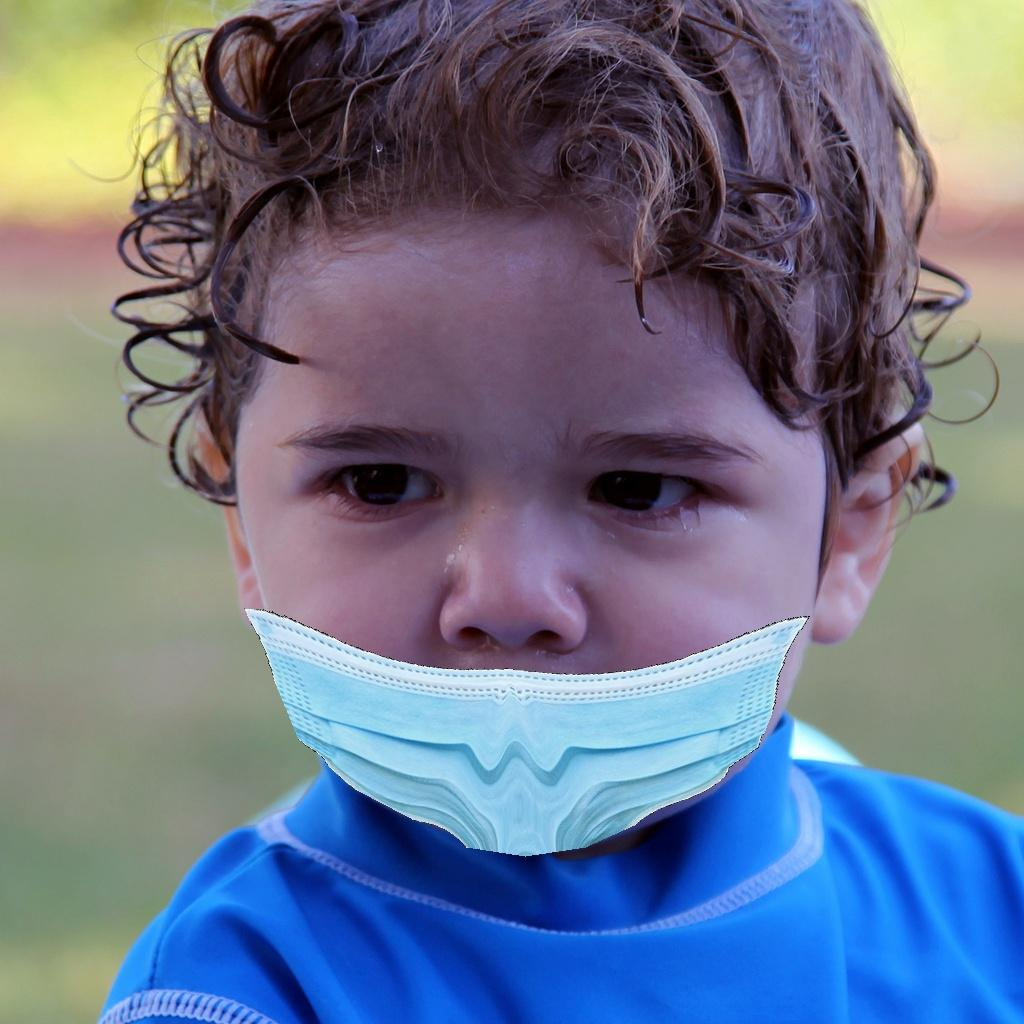Máscara Incorreta: (210, 233, 836, 846)
